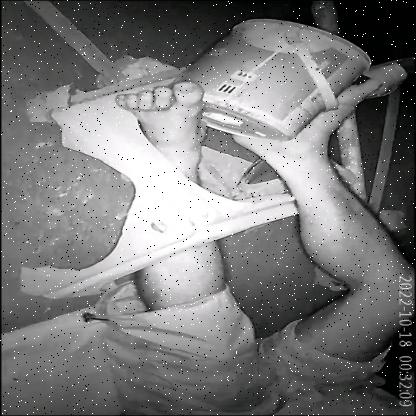leg: (223, 65, 416, 355), (112, 79, 215, 172)
